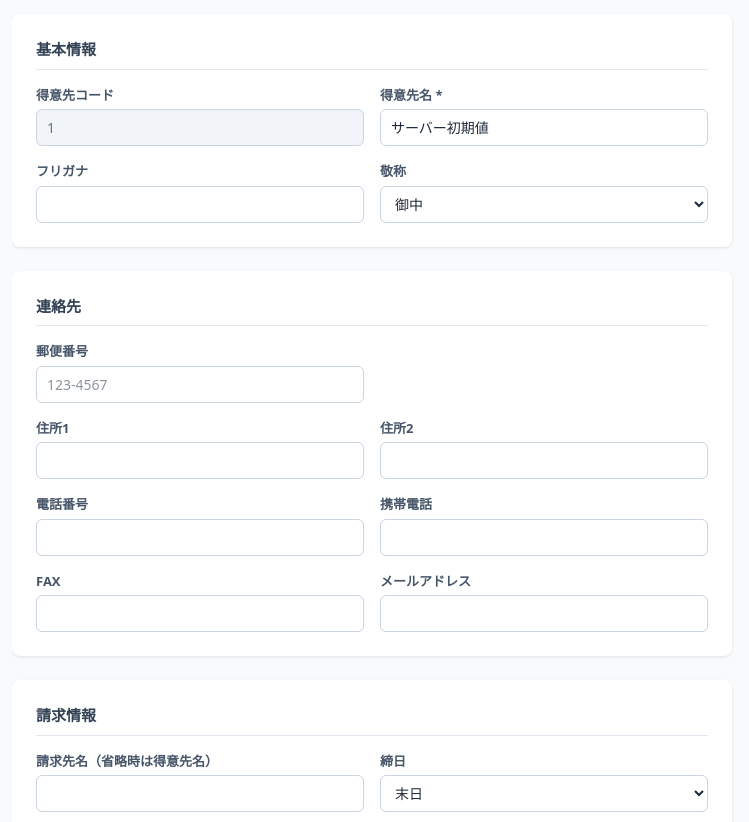
Test: R-0167 得意先詳細の楽観的ロック › 409では競合表示を出し、画面を離れず入力値を残す
Step 1. Clear the field showing "サーバー初期値" below "得意先名 *" → {"x": 544, "y": 128}, box [380,109,708,146]
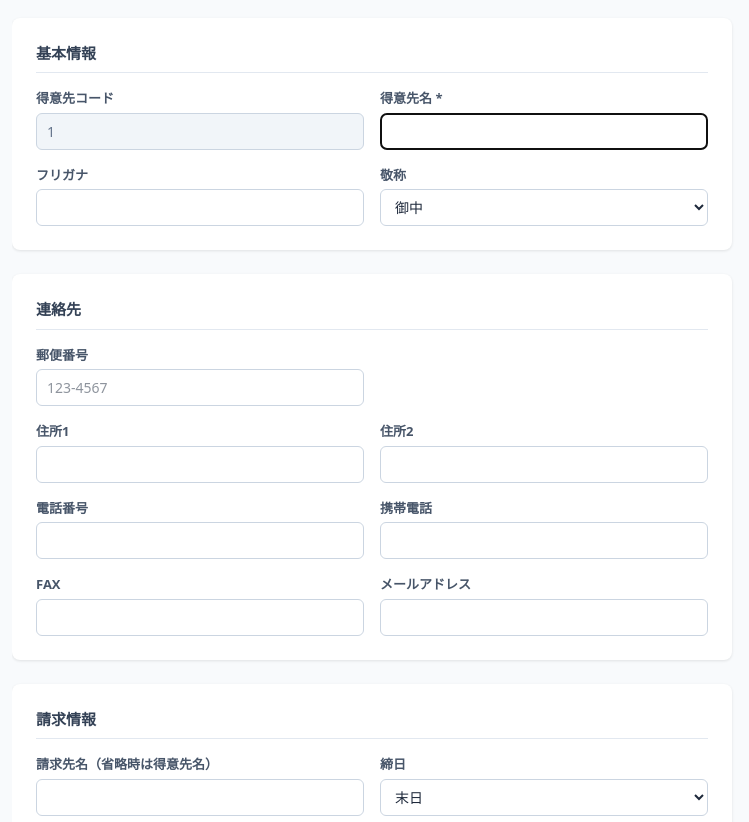
Step 2. Type "入力中の値" into the field showing "サーバー初期値" below "得意先名 *" → {"x": 544, "y": 131}, box [380,112,708,150]
(page scrolled)
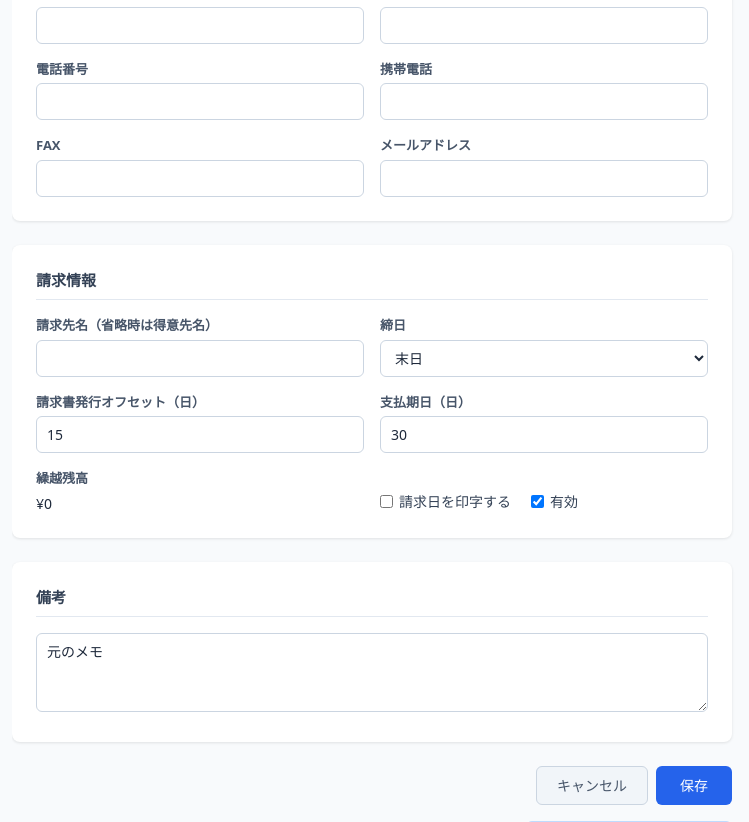
Step 3. Click the button "保存" → {"x": 694, "y": 786}, box [656,766,732,805]
(page scrolled)
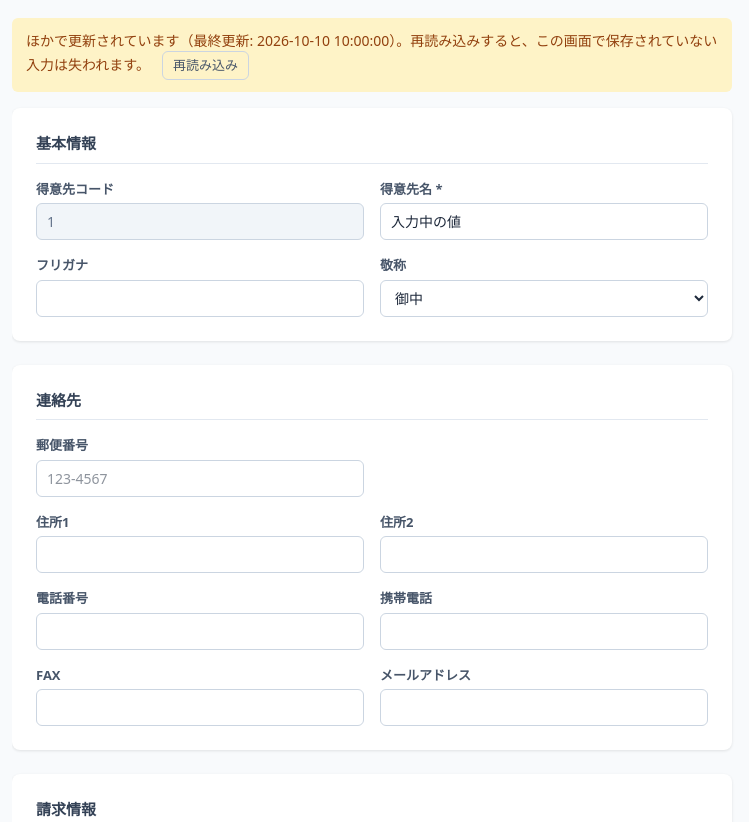
Result: the text "ほかで更新されています（最終更新: 2026-10-10 10:00:00）" is shown at [12,18,732,92]
Result: the button "再読み込み" is shown at [162,50,249,80]
